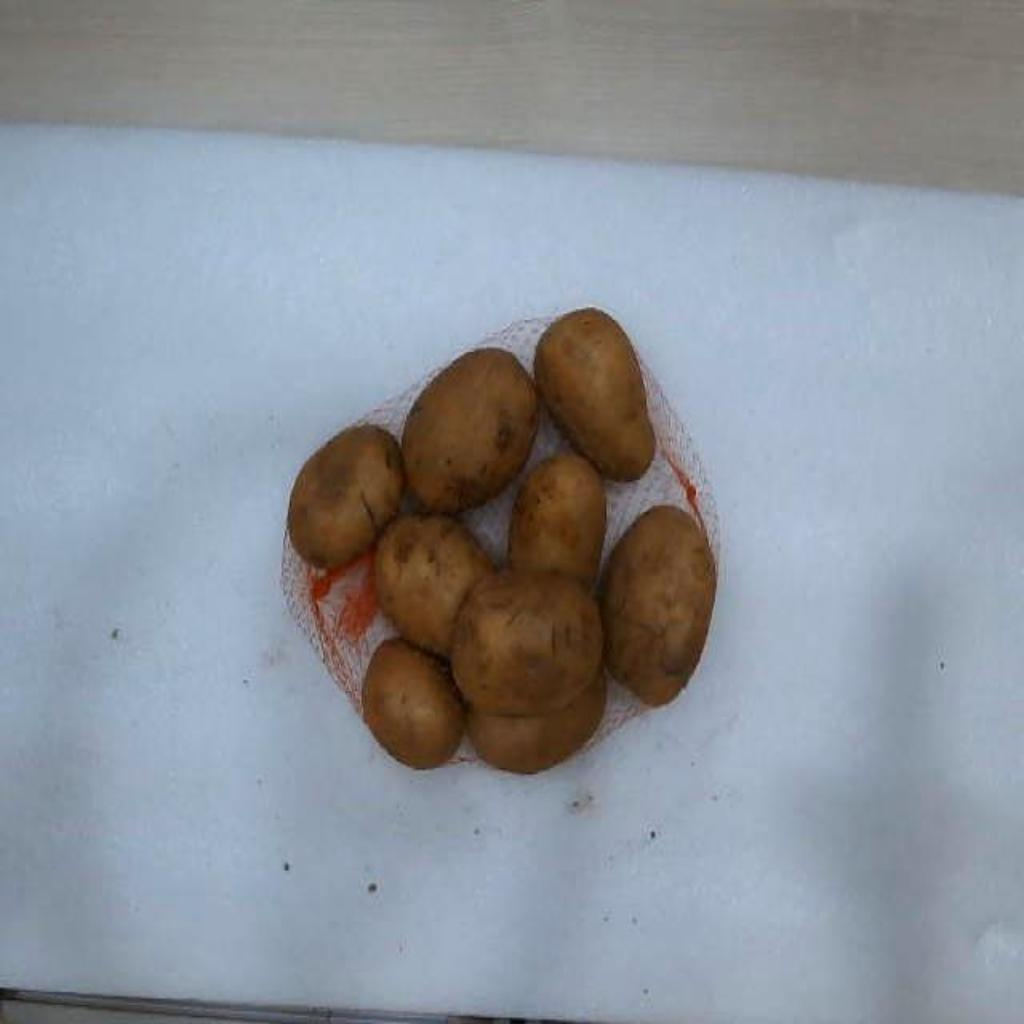potato: (602, 507, 716, 705), (402, 349, 538, 513), (452, 573, 604, 716), (534, 309, 654, 479), (374, 515, 494, 657), (288, 424, 404, 567), (466, 669, 606, 773), (362, 643, 464, 768), (508, 453, 606, 583)
